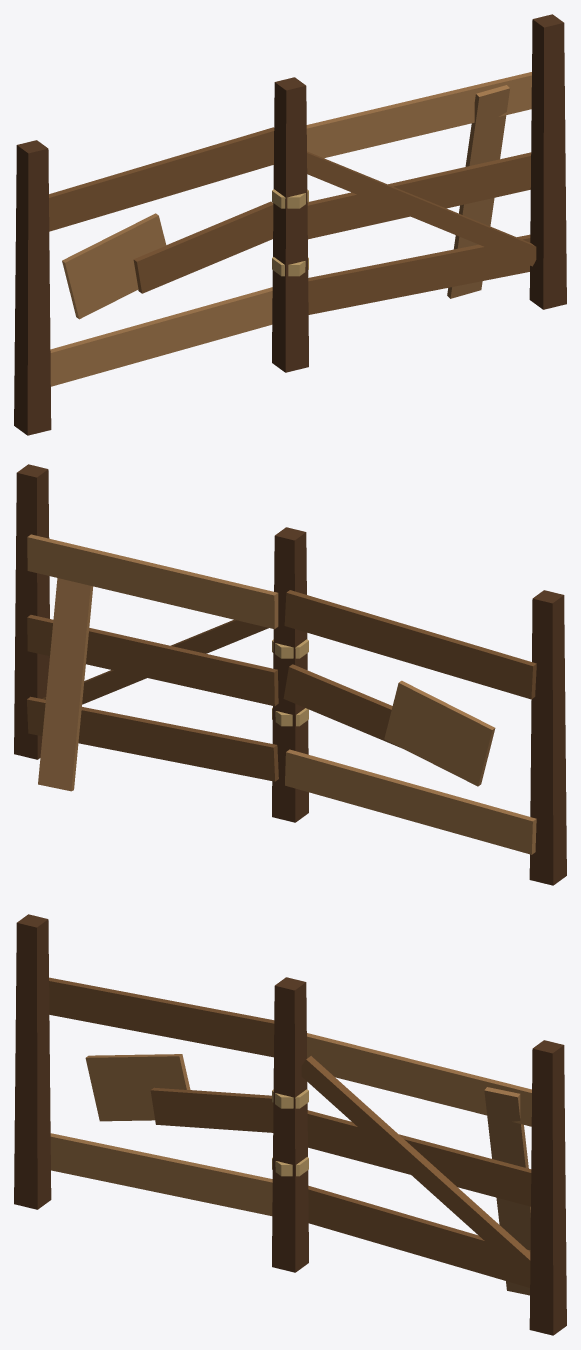
File: SM_YardFence.fbx
The picture shows the model from 3 angles, top to bottom: view 1: azimuth 30°, elevation 25°; view 2: azimuth 150°, elevation 25°; view 3: azimuth 330°, elevation 25°; orthographic projection.
Parts seen in each view (by area): view 1: SM_YardFence; view 2: SM_YardFence; view 3: SM_YardFence.
Part boxes in pixels (x1,y1,x2,y2): SM_YardFence: (14,14,566,435); SM_YardFence: (14,464,566,885); SM_YardFence: (14,914,566,1335).
Size of the model in its own units: 5.02 by 0.6749 by 2.51.
